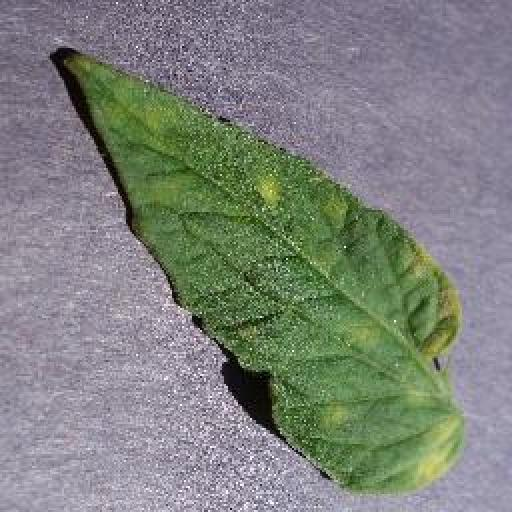disease_tomato: (61, 48, 464, 495)
